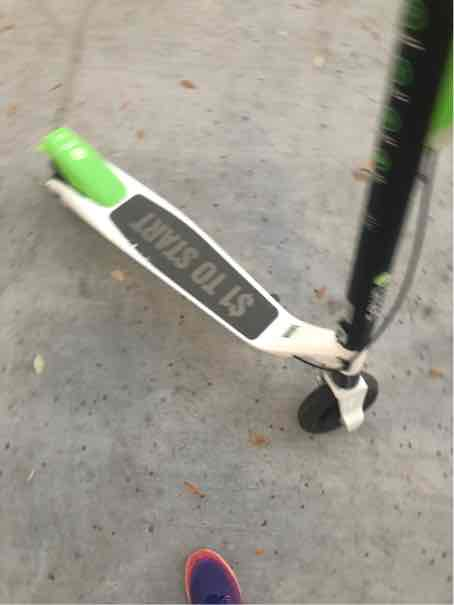scooter: (22, 16, 423, 523)
